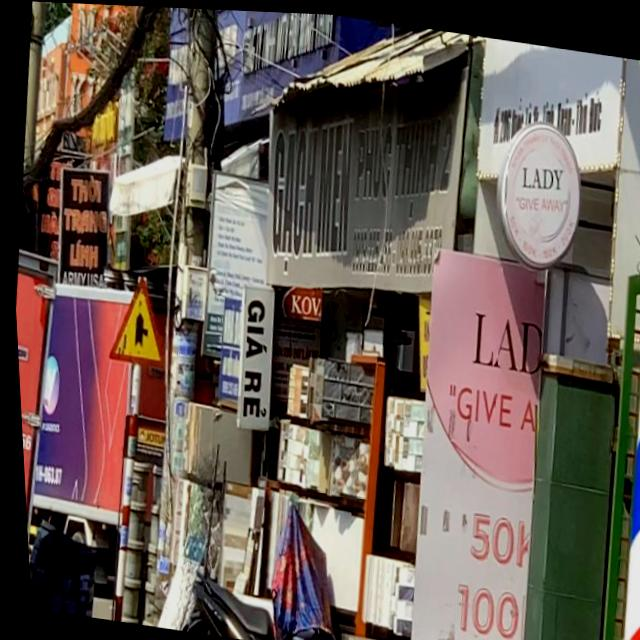Giao nhau voi duong khong uu tien ben phai: (97, 260, 171, 371)
